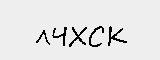К: (106, 25, 132, 46)
Л: (34, 27, 51, 48)
С: (87, 21, 105, 51)
Х: (68, 25, 88, 52)
Ч: (51, 25, 72, 49)
